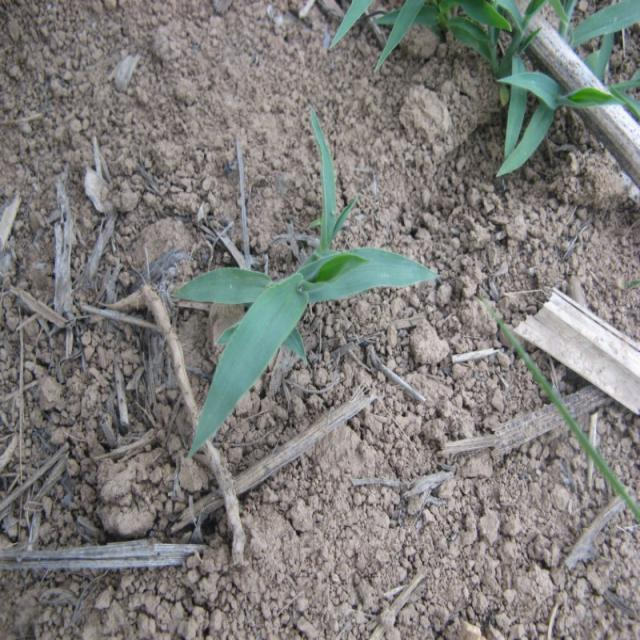bg: (166, 99, 446, 452)
